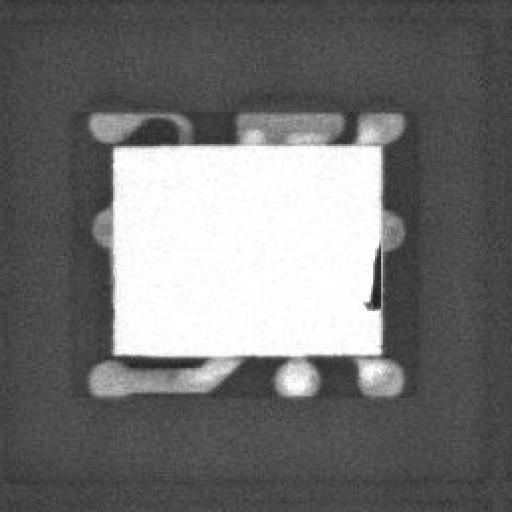DIE_BROKEN: (357, 243, 385, 311)
